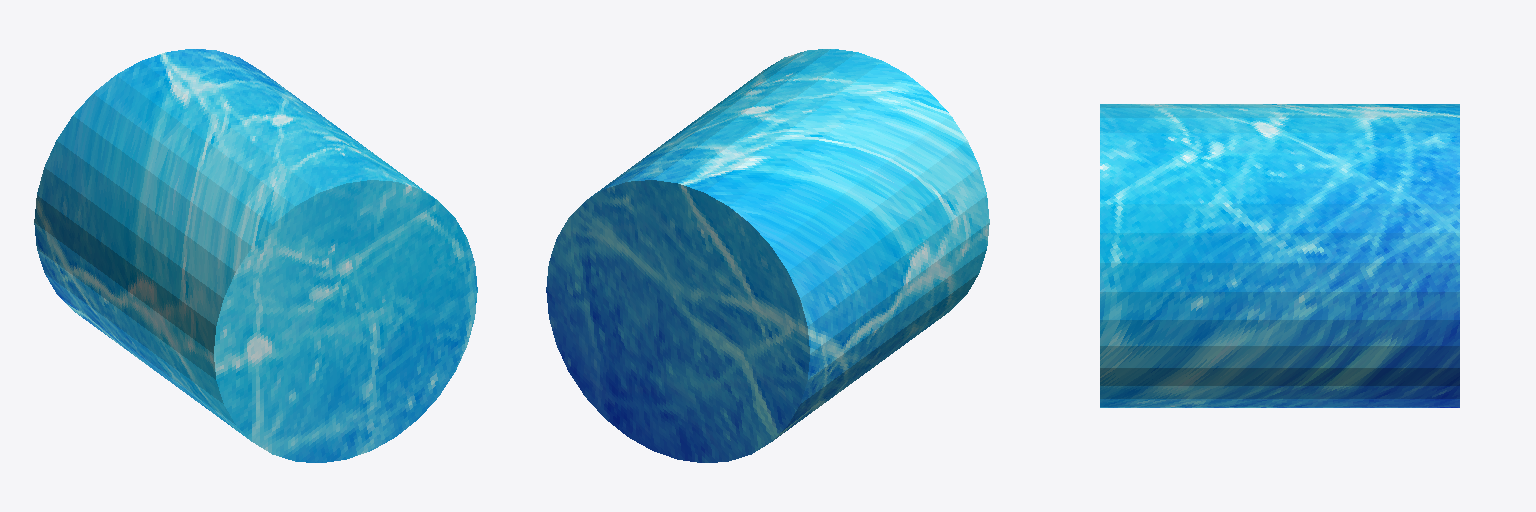
The picture shows the model from 3 angles: view 1: azimuth 30°, elevation 25°; view 2: azimuth 150°, elevation 25°; view 3: azimuth 270°, elevation 25°; orthographic projection.
Visible parts, largest first — view 1: Cylinder; view 2: Cylinder; view 3: Cylinder.
Part boxes in pixels (bbox=[...]): Cylinder: bbox=[34, 49, 477, 462]; Cylinder: bbox=[546, 49, 989, 462]; Cylinder: bbox=[1100, 104, 1459, 407].
Bounding box in the file's own units: 0.6 × 0.6 × 0.7066.
1 materials, 1 textured.